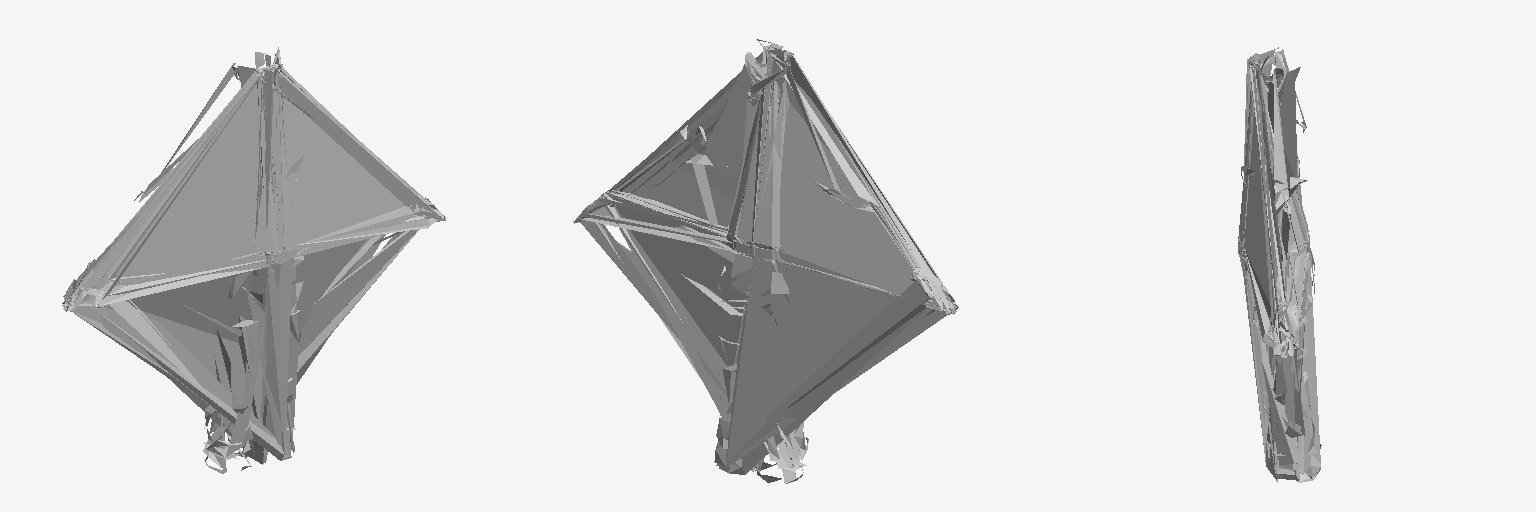
Rendered from snow.obj.
3 renders of one model, left to right at view 1: azimuth 30°, elevation 25°; view 2: azimuth 150°, elevation 25°; view 3: azimuth 270°, elevation 25°, orthographic.
Parts seen in each view (by area): view 1: Model001_24_body!1nPart!_1_0_0.001, Model001_25_hair_1_0_0, Model001_22_clothes2_0.8_10_15, Model001_24_body!!_1_0_0.001; view 2: Model001_24_body!1nPart!_1_0_0.001, Model001_25_hair_1_0_0, Model001_24_body!!_1_0_0.001, Model001_22_clothes2_0.8_10_15; view 3: Model001_24_body!1nPart!_1_0_0.001, Model001_25_hair_1_0_0, Model001_22_clothes2_0.8_10_15.
Part boxes in pixels (x1,y1,x2,y2): Model001_24_body!1nPart!_1_0_0.001: (62, 64, 446, 463); Model001_25_hair_1_0_0: (62, 47, 444, 473); Model001_22_clothes2_0.8_10_15: (254, 65, 295, 265); Model001_24_body!!_1_0_0.001: (260, 64, 295, 263); Model001_24_body!1nPart!_1_0_0.001: (575, 48, 957, 474); Model001_25_hair_1_0_0: (573, 39, 958, 483); Model001_24_body!!_1_0_0.001: (728, 47, 788, 259); Model001_22_clothes2_0.8_10_15: (727, 47, 790, 260); Model001_24_body!1nPart!_1_0_0.001: (1239, 67, 1320, 481); Model001_25_hair_1_0_0: (1238, 47, 1321, 482); Model001_22_clothes2_0.8_10_15: (1238, 59, 1309, 256).
Bounding box in the file's own units: 1.54 × 1.62 × 0.2937.